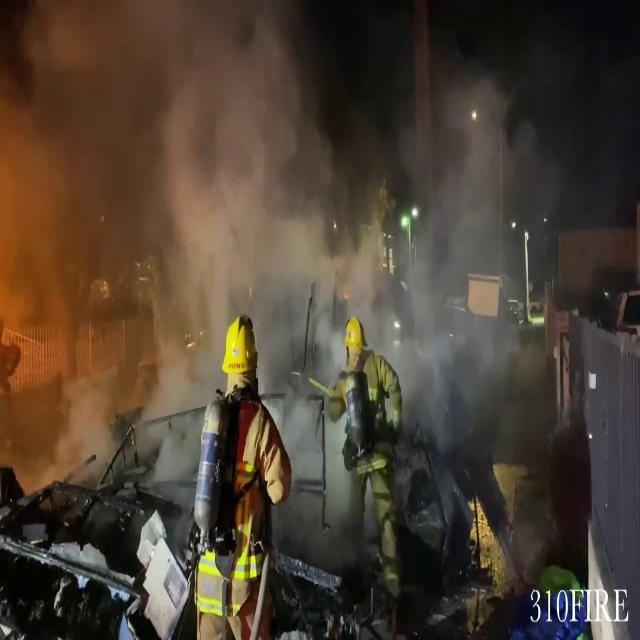Smoke: (0, 0, 357, 452), (361, 46, 586, 426)
